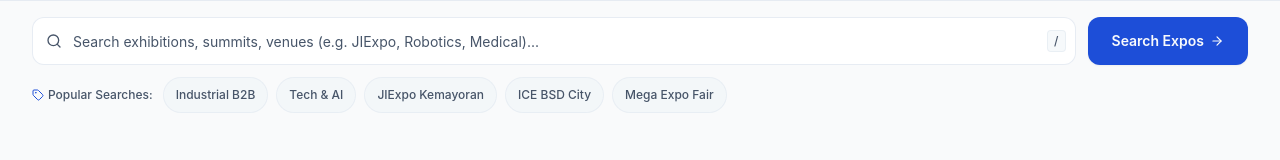
Test: Discovery Component: HeroSearchBar (Homepage Search Cockpit) › T1.4: displays clear button when input is non-empty and clears value when clicked
Replace the text in the field with placeholder "Search exhibitions, summits, venues" with "Medical" at (554, 41), box x1=32 y1=17 x2=1076 y2=65
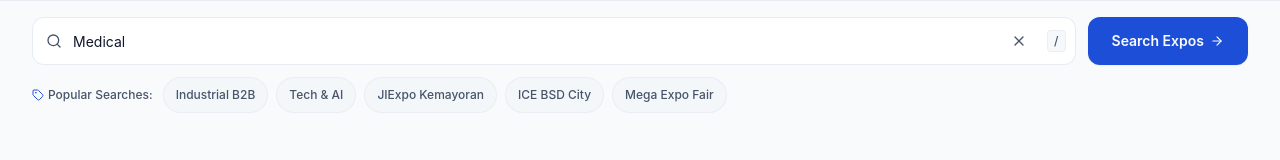
Now the button named "clear" is shown
Click the button named "clear".
click(1019, 41)  # box x1=997 y1=19 x2=1041 y2=63
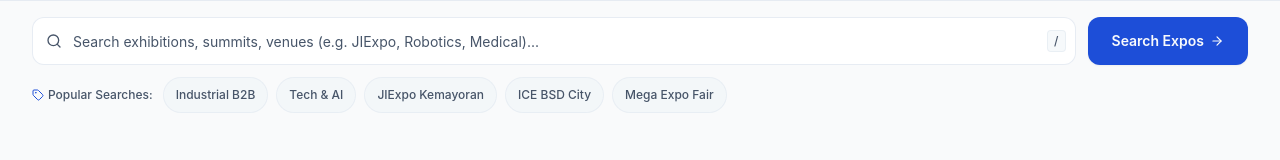
Now the field with placeholder "Search exhibitions, summits, venues" is empty, box x1=32 y1=17 x2=1076 y2=65
